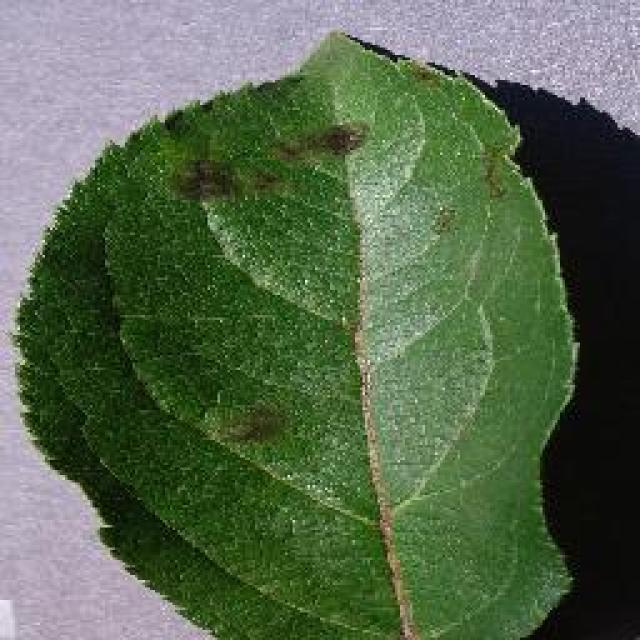apple scab disease: (10, 28, 582, 638)
